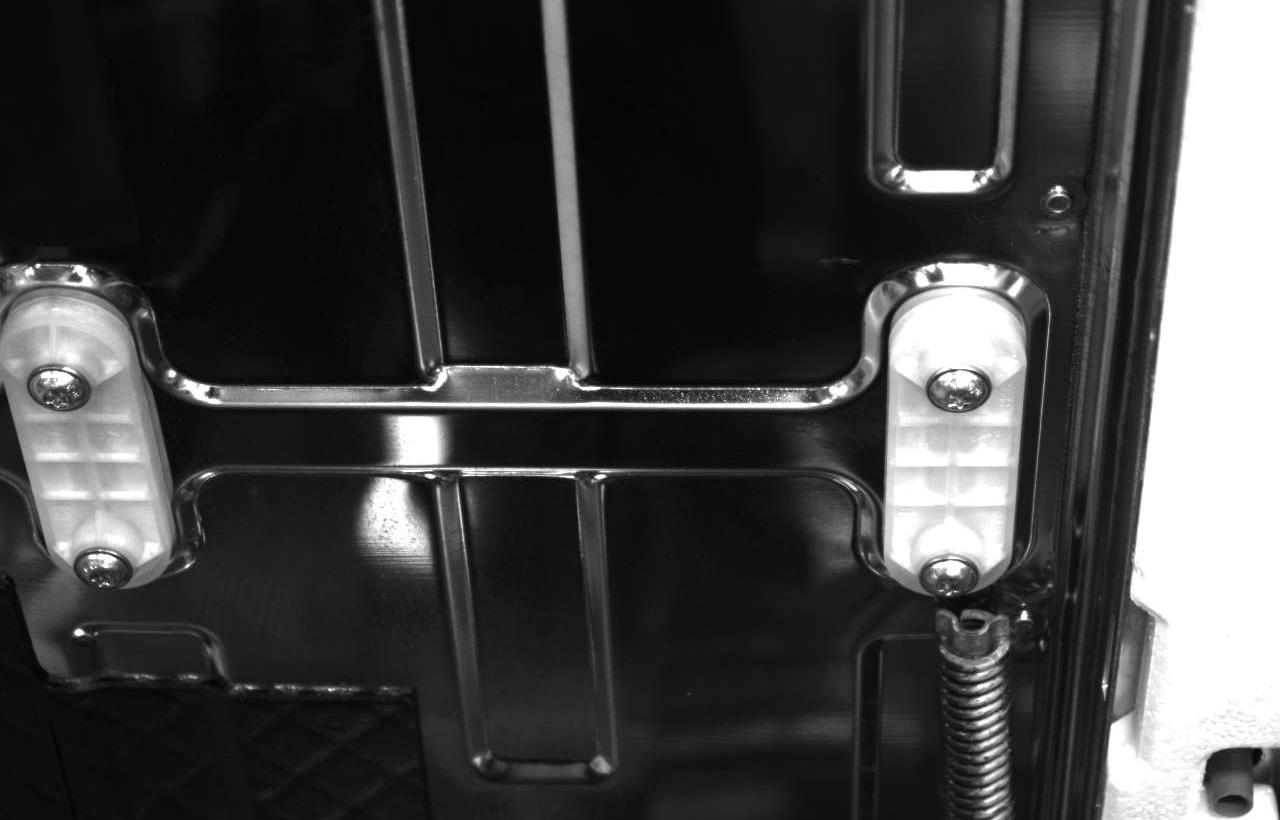vida-ok: (21, 354, 93, 421), (927, 357, 994, 424), (67, 538, 133, 597), (917, 547, 983, 605)
